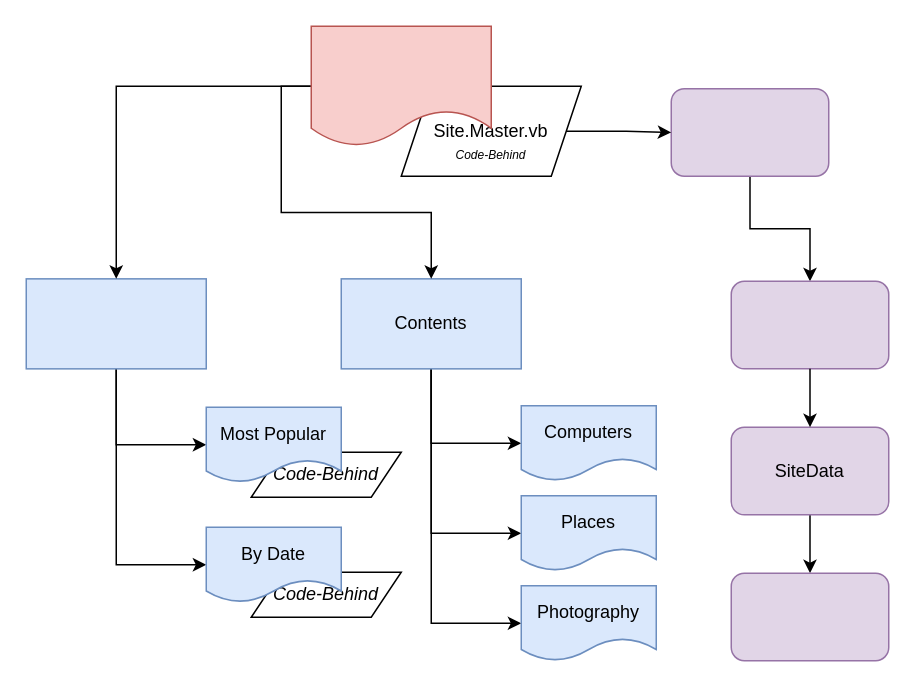
This 915x687 diagram has some shape labels left out. The shapes that lost their labels are listed below. From the top down, each one's centre as x and y in pixels, then its label:
the point at 400,85: Site.Master
the point at 749,131: PageProperties
the point at 115,323: Gateways
the point at 809,324: WebFileInfo
the point at 809,616: Navigation
